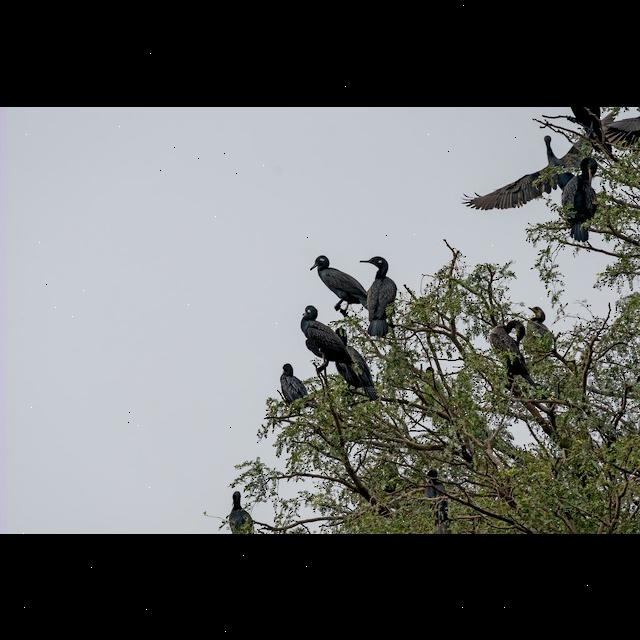cormorant: (354, 253, 404, 343), (296, 300, 340, 372), (304, 244, 352, 296)
